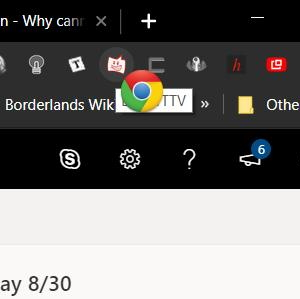chrome: (121, 69, 164, 112)
